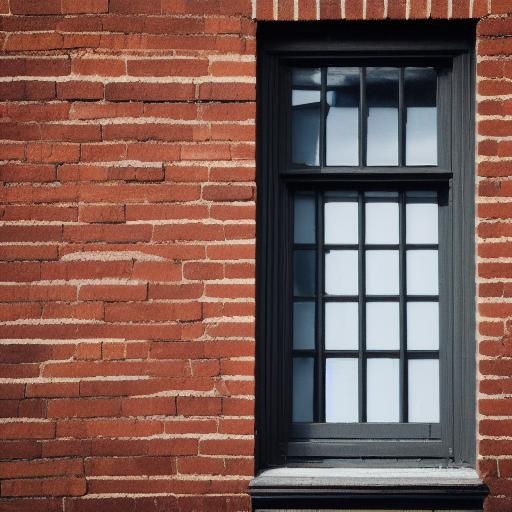Window: (239, 2, 494, 509)
